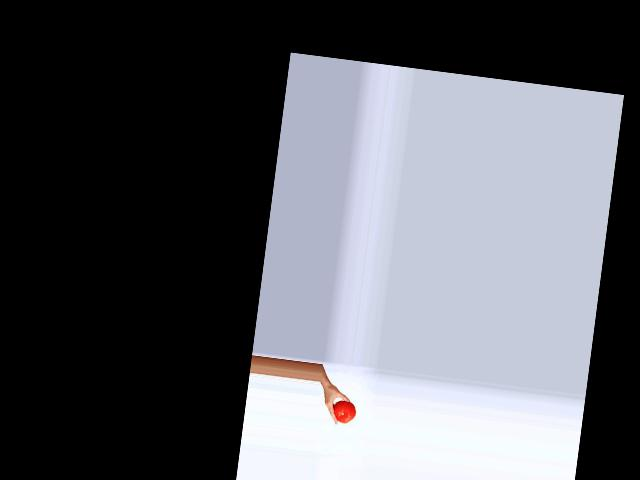tomato: (332, 399, 356, 424)
